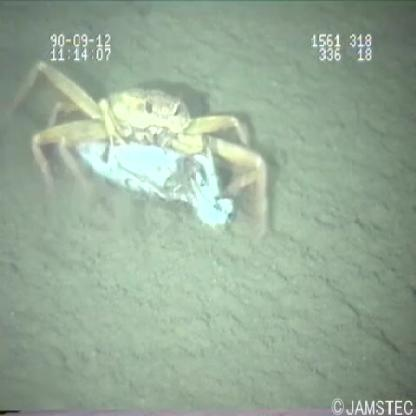Bio: (1, 58, 276, 248)
